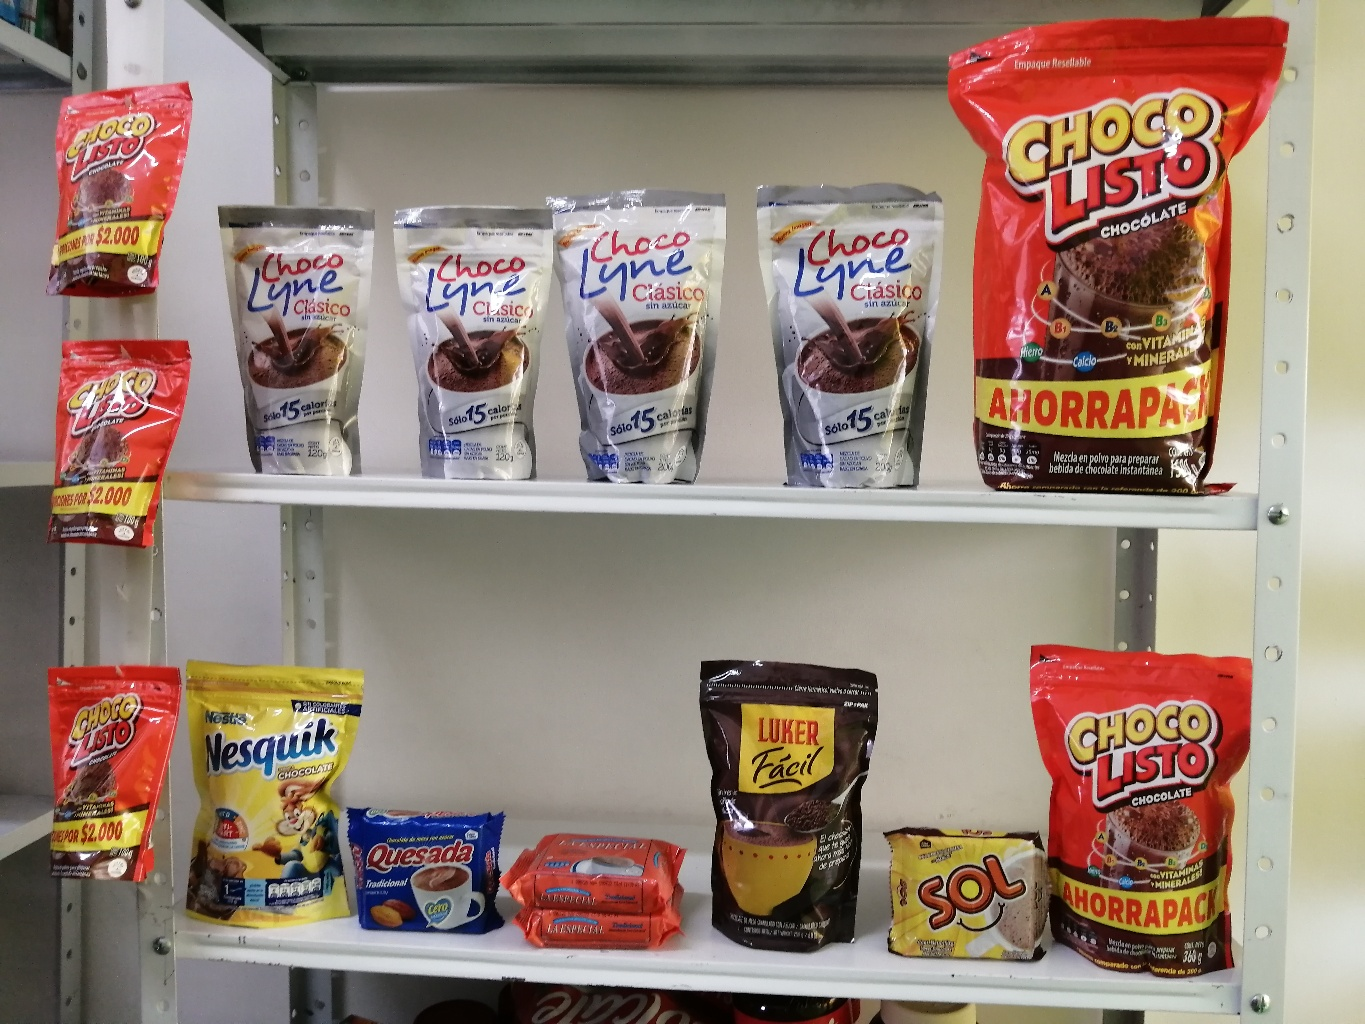COL0170103DYP1,500: (950, 2, 1292, 497)
COL0170103DYP36000: (1034, 631, 1247, 980)
COL0170303DYP20000: (183, 654, 362, 933)
